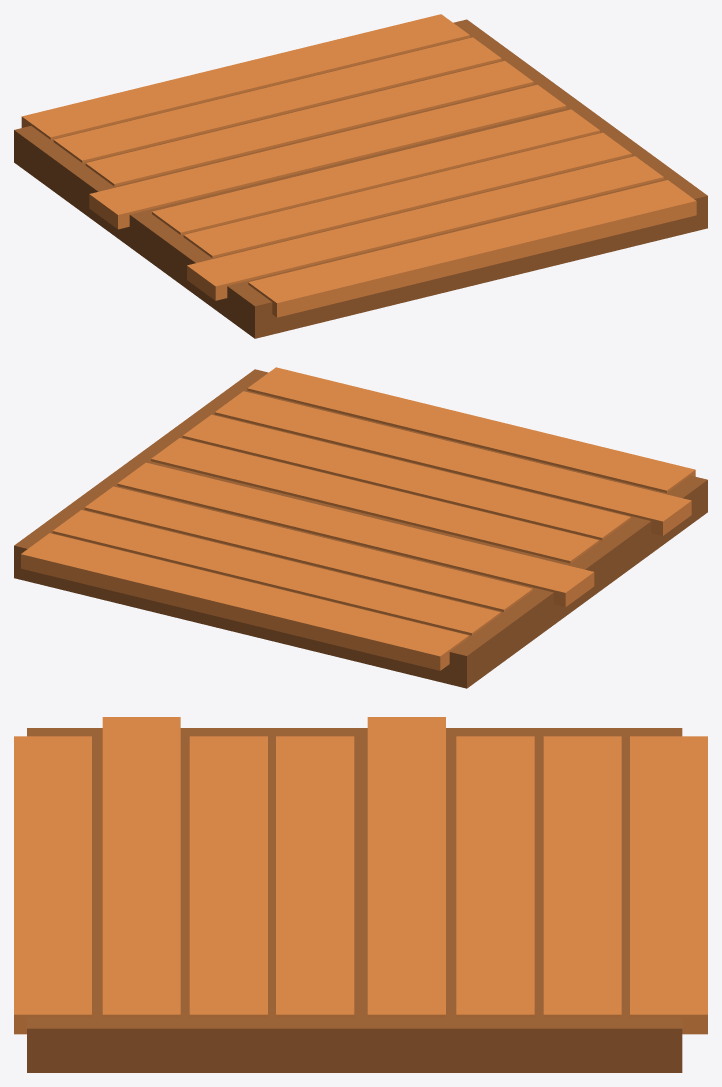
File: Plataforma 03.fbx
3 views of the same model, one above another, from view 1: azimuth 30°, elevation 25°; view 2: azimuth 150°, elevation 25°; view 3: azimuth 270°, elevation 25° (orthographic). The views are drawn at different scales.
Visible parts, largest first — view 1: Cube.006; view 2: Cube.006; view 3: Cube.006.
Part boxes in pixels (x1,y1,x2,y2): Cube.006: (14,14,707,338); Cube.006: (14,367,707,688); Cube.006: (14,717,707,1072).
Bounding box in the file's own units: 462 × 33.22 × 440.
